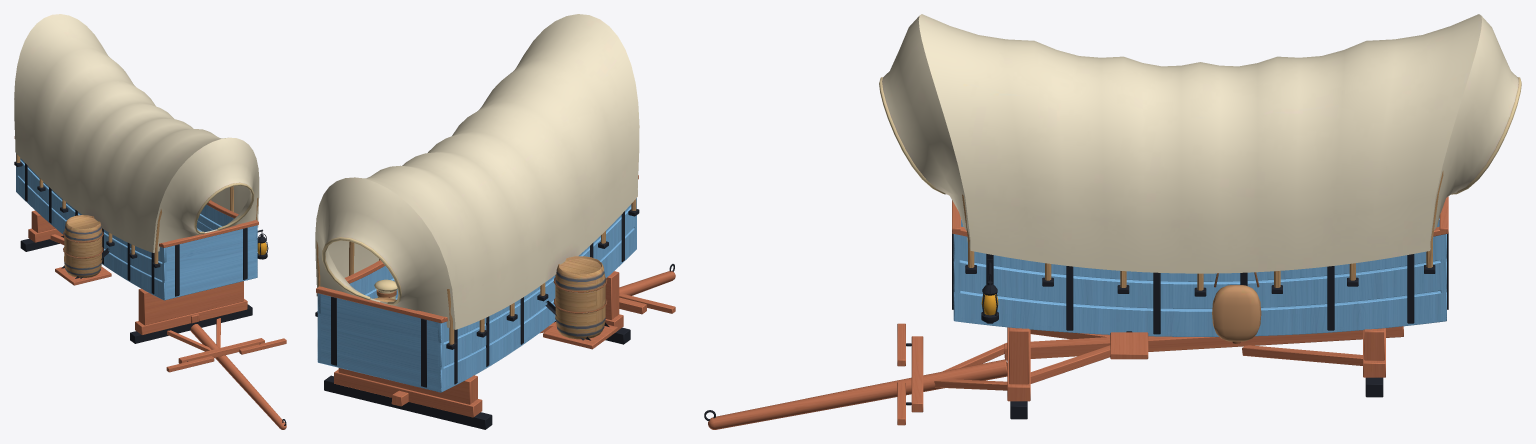
The model's file is carreta_cuerpo.obj.
3 views of the same model, side by side, from view 1: azimuth 30°, elevation 25°; view 2: azimuth 150°, elevation 25°; view 3: azimuth 270°, elevation 25° (orthographic). The views are drawn at different scales.
Parts seen in each view (by area): view 1: covered-wagon_body, covered-wagon_wagonbed, covered-wagon_gear, covered-wagon_bows, covered-wagon_lantern; view 2: covered-wagon_body, covered-wagon_wagonbed, covered-wagon_gear, covered-wagon_bows; view 3: covered-wagon_body, covered-wagon_wagonbed, covered-wagon_gear, covered-wagon_bows, covered-wagon_lantern.
Part boxes in pixels (<box>): covered-wagon_body: <box>14,14,259,277</box>; covered-wagon_wagonbed: <box>14,136,259,300</box>; covered-wagon_gear: <box>20,210,286,429</box>; covered-wagon_bows: <box>16,153,258,263</box>; covered-wagon_lantern: <box>257,229,268,259</box>; covered-wagon_body: <box>315,14,639,339</box>; covered-wagon_wagonbed: <box>315,175,639,392</box>; covered-wagon_gear: <box>324,264,675,429</box>; covered-wagon_bows: <box>316,199,636,344</box>; covered-wagon_body: <box>879,14,1521,343</box>; covered-wagon_wagonbed: <box>952,196,1448,336</box>; covered-wagon_gear: <box>704,323,1403,429</box>; covered-wagon_bows: <box>962,171,1443,290</box>; covered-wagon_lantern: <box>981,259,998,322</box>.
Bounding box in the file's own units: 2.1 × 3.11 × 5.64.
Materials: 7 (4 with a texture image).
